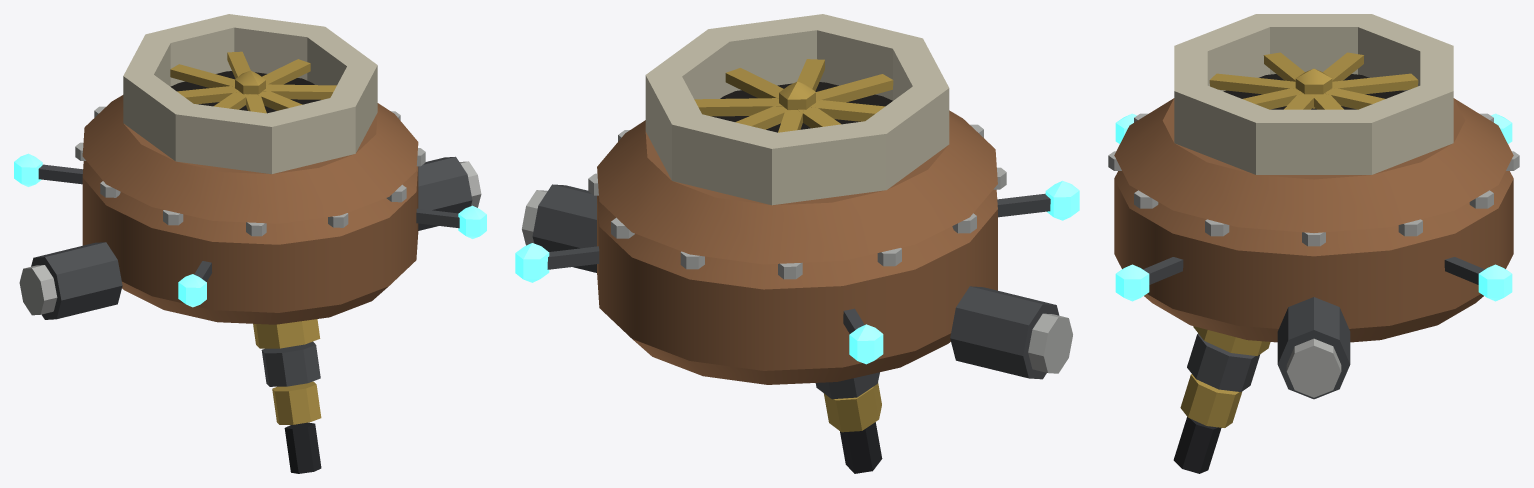
The model's file is distractor.glb.
3 renders of one model, left to right at view 1: azimuth 30°, elevation 25°; view 2: azimuth 150°, elevation 25°; view 3: azimuth 270°, elevation 25°, orthographic. The views are drawn at different scales.
Parts seen in each view (by area): view 1: body; view 2: body; view 3: body.
Boxes of the visible parts, x1,y1,x2,y2 form: body: (14,14,486,473); body: (515,14,1079,473); body: (1108,14,1519,473).
Size of the model in its own units: 0.928 by 0.7378 by 0.6848.
